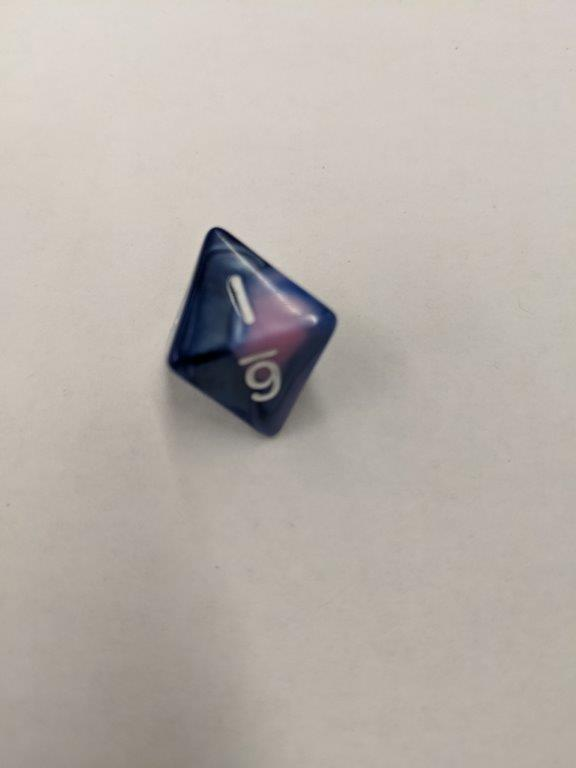d8-1: (166, 226, 336, 441)
